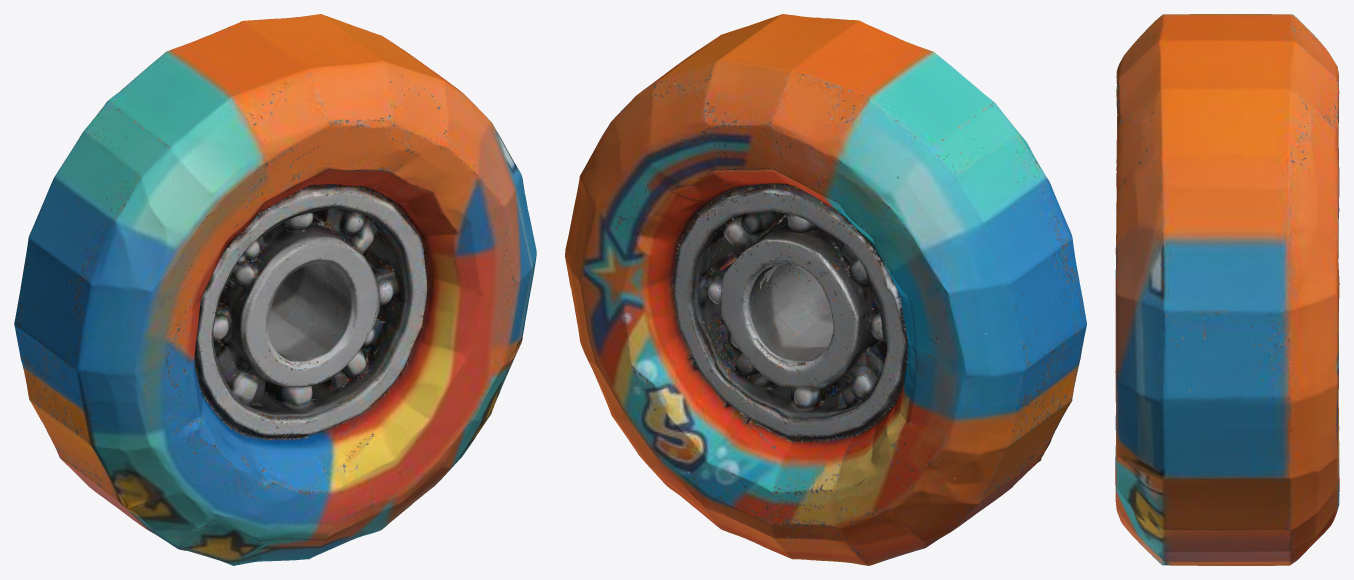
The model's file is spectrum-wheel.glb.
3 views of the same model, side by side, from view 1: azimuth 30°, elevation 25°; view 2: azimuth 150°, elevation 25°; view 3: azimuth 270°, elevation 25° (orthographic).
Bounding box in the file's own units: 1.96 × 2 × 0.8158.
Materials: 1 (1 with a texture image).
